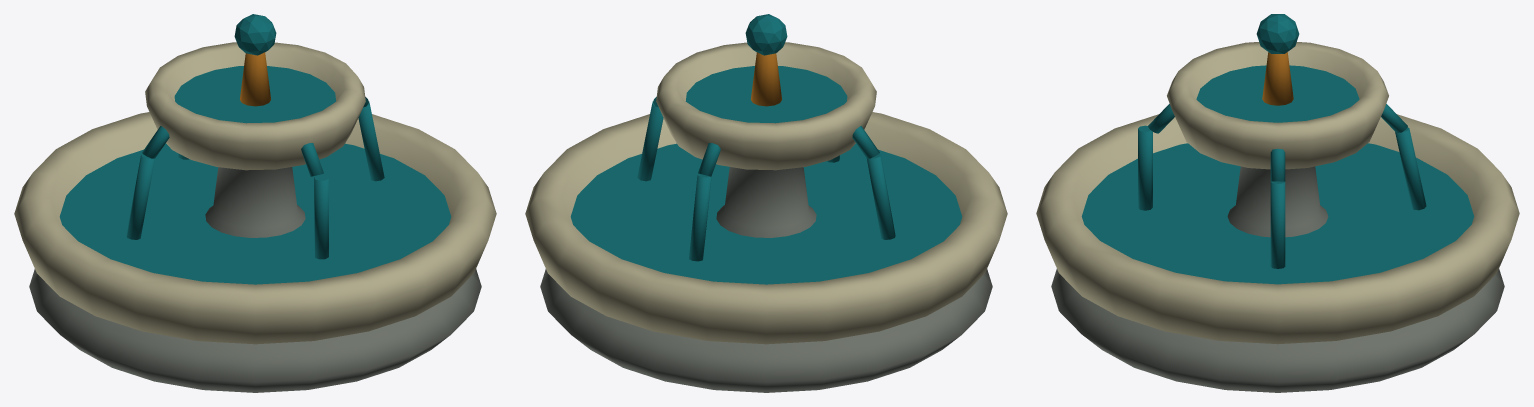
Rendered from fountain.obj.
3 views of the same model, side by side, from view 1: azimuth 30°, elevation 25°; view 2: azimuth 150°, elevation 25°; view 3: azimuth 270°, elevation 25° (orthographic).
Visible parts, largest first — view 1: fountain; view 2: fountain; view 3: fountain.
Boxes of the visible parts, left/top/right/bottom form: fountain: left=14, top=14, right=496, bottom=392; fountain: left=525, top=14, right=1007, bottom=392; fountain: left=1036, top=14, right=1519, bottom=392.
Size of the model in its own units: 3 by 2 by 3.
